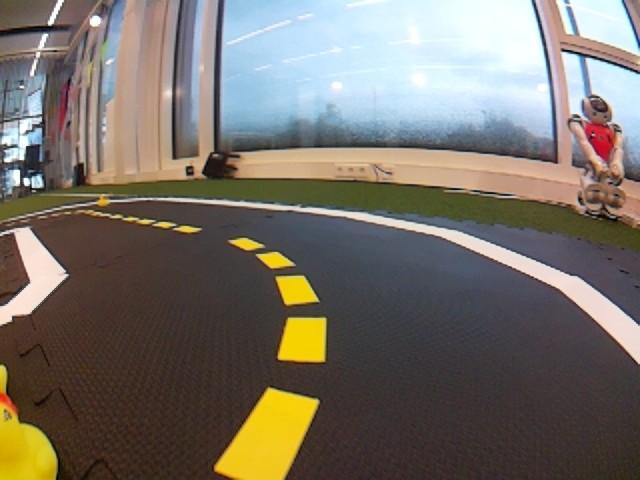Duckies: (0, 370, 57, 480), (97, 194, 110, 207)
